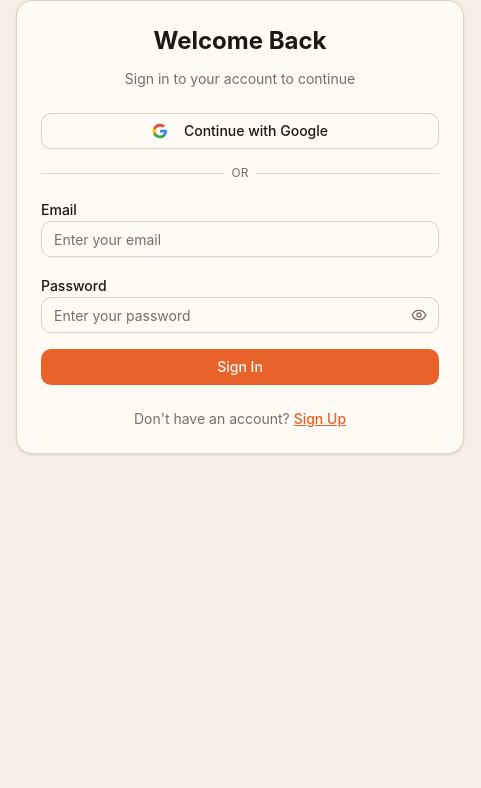
Scenario: AuthForm › Mode Toggle › switches between sign in and sign up modes
Expected: the text "Welcome Back" is shown, [154,26,327,55]
Click the button "Sign Up": (320, 419) [294,409,346,429]
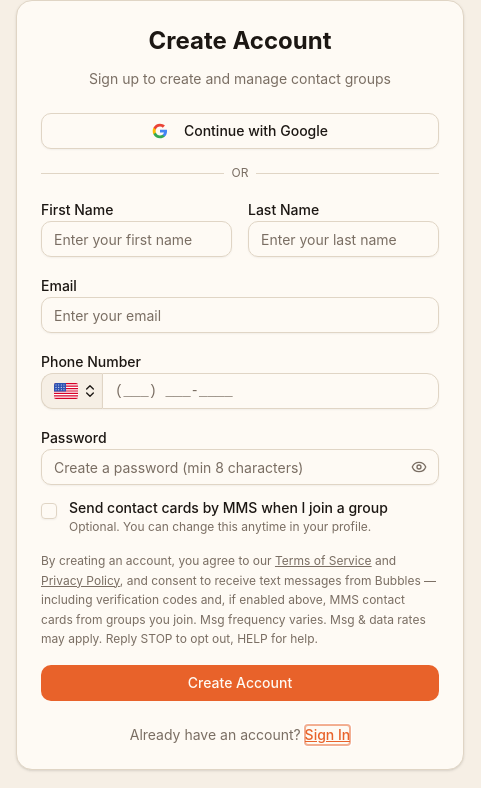
Expected: the text "Sign up to create and manage contact groups" is shown, [89,70,391,87]
Click the button "Sign In": (327, 734) [305,724,350,744]
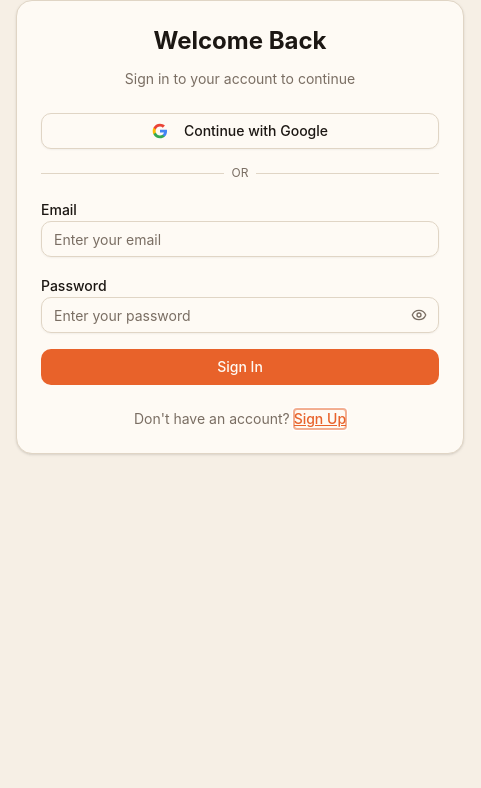
Expected: the text "Sign in to your account to continue" is shown, [125,70,355,87]
